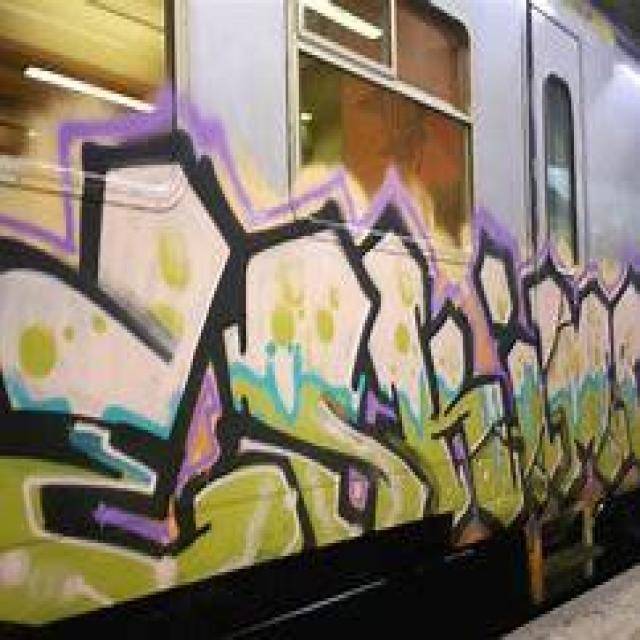nonspitting: (0, 87, 640, 564)
